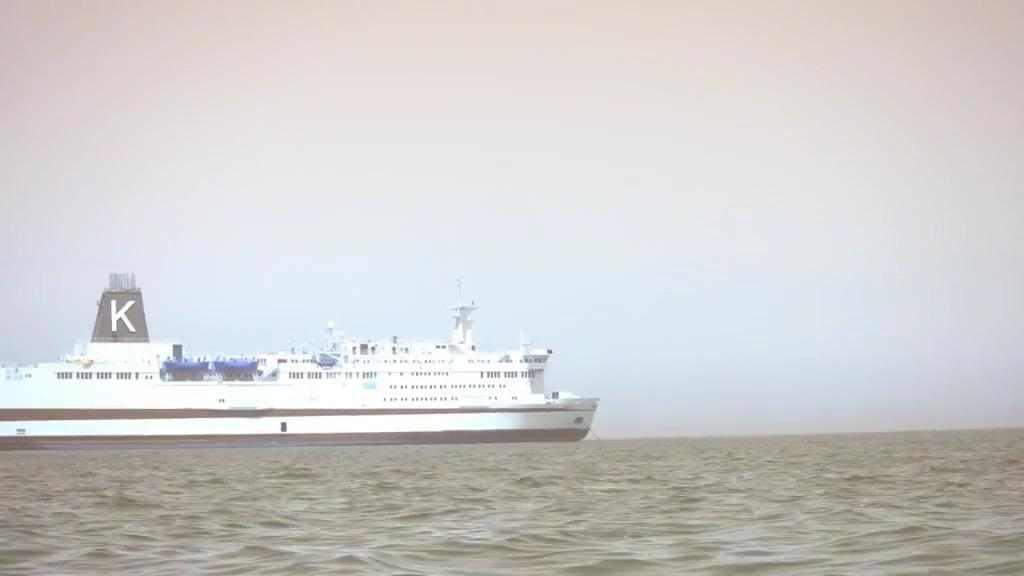PassengerShip: (0, 268, 618, 460)
